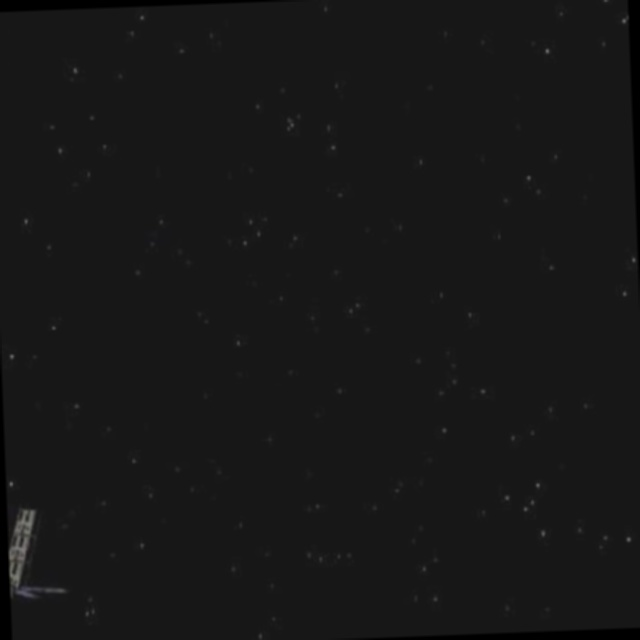medium_debris: (7, 498, 69, 619)
